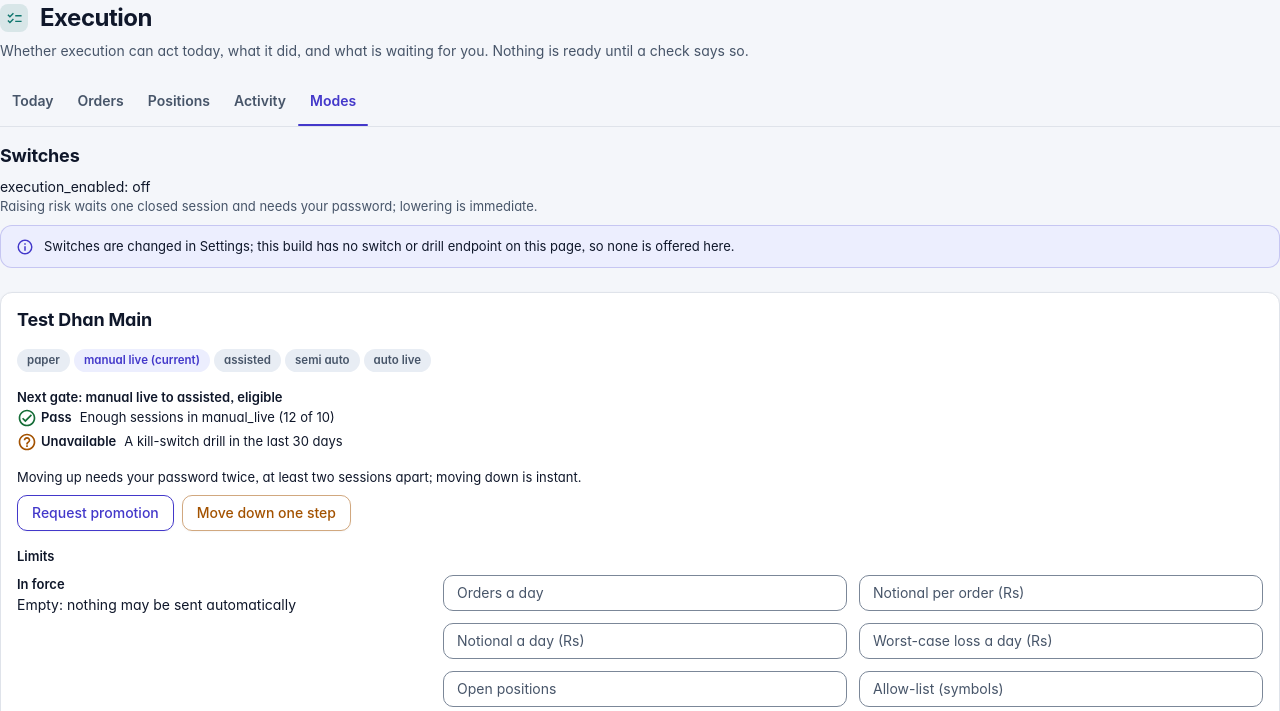
Scenario: Modes tab › asks the password and the reason, sends the request, and shows the server refusal as it came
Step 1. Click the button "Request promotion" → (95, 513), box [17,495,174,531]
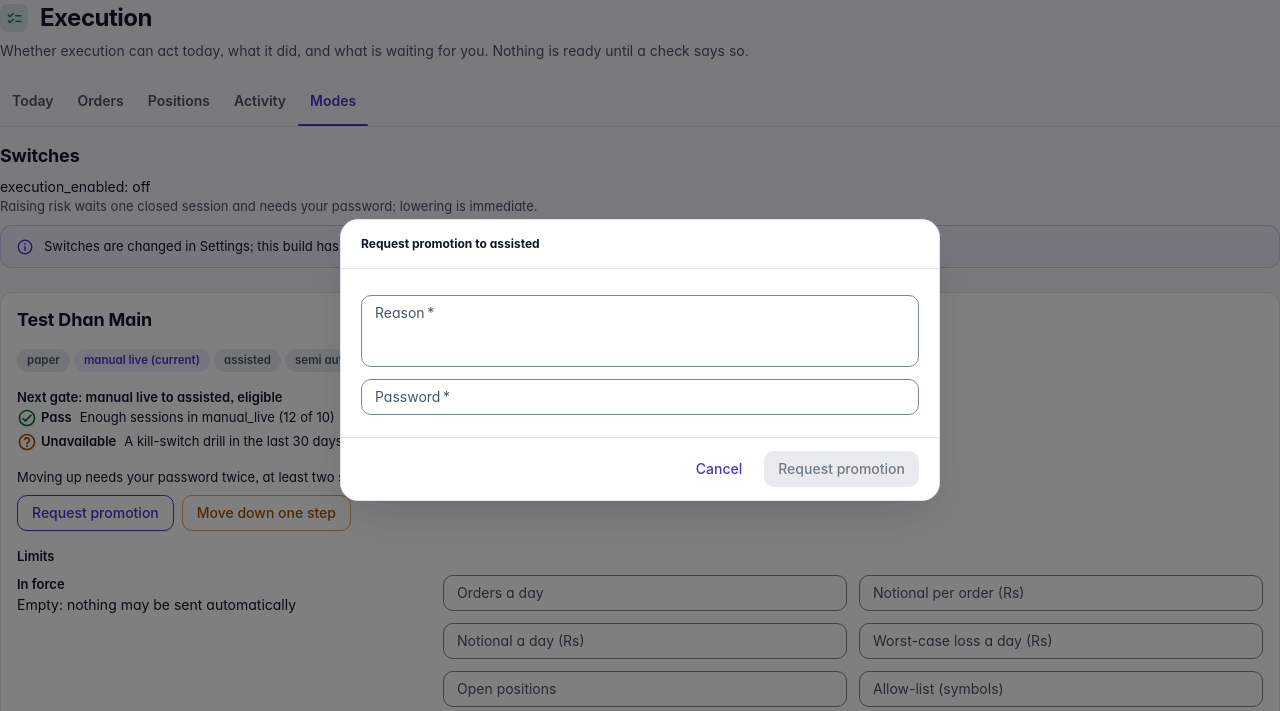
Step 2. Type "ready" into the text box labelled "Reason *" → (640, 331), box [375,303,905,359]
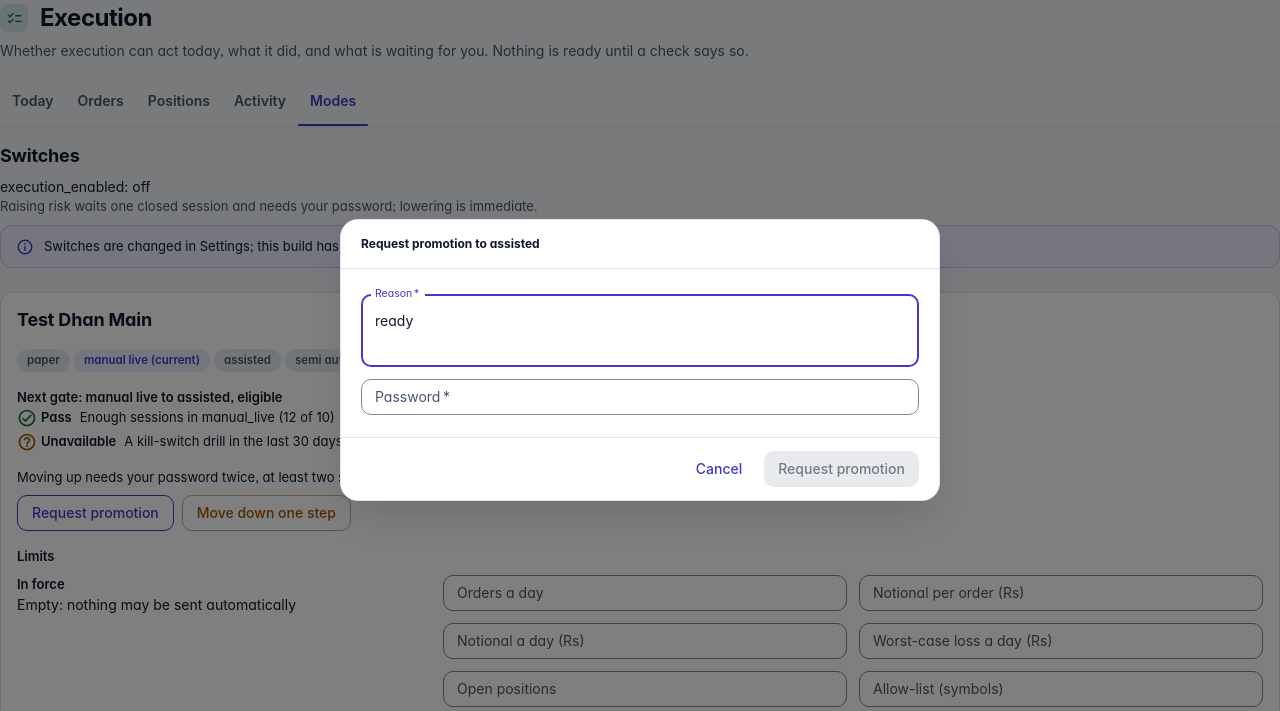
Step 3. Type "pw" into the password field labelled "Password *" → (640, 397), box [361,379,919,415]
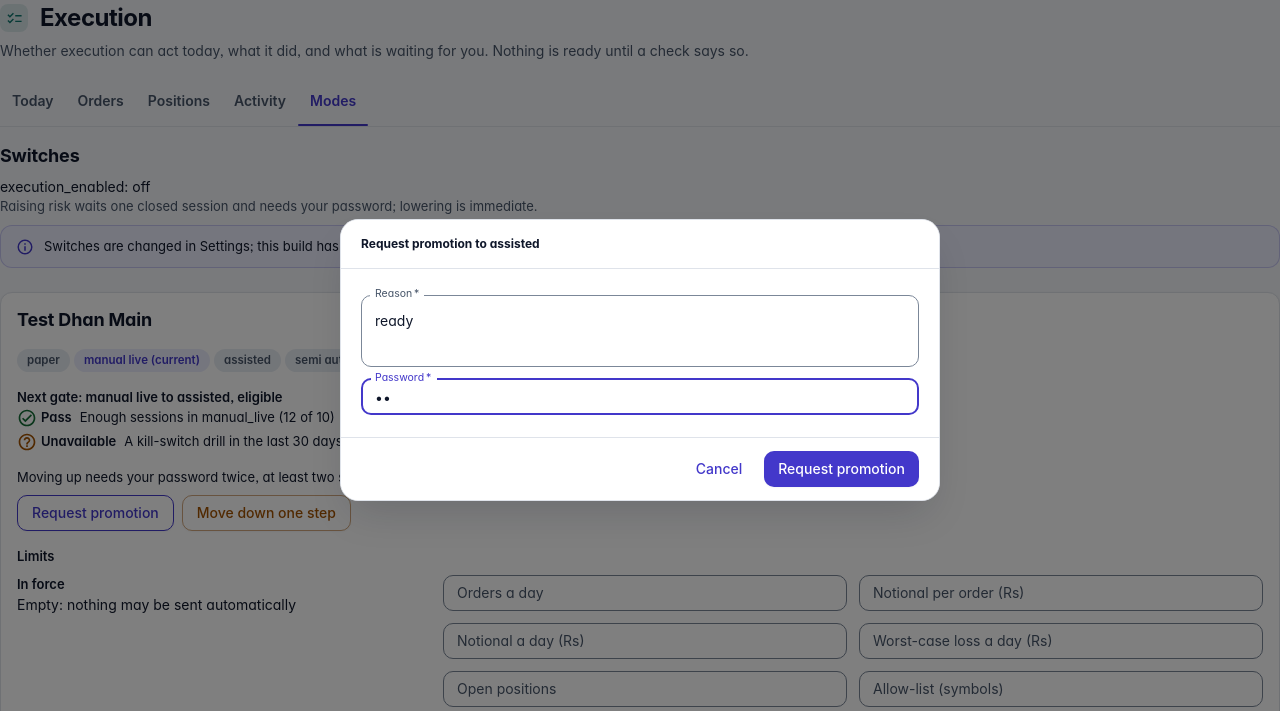
Step 4. Click the button "Request promotion" → (842, 469), box [764,451,919,487]
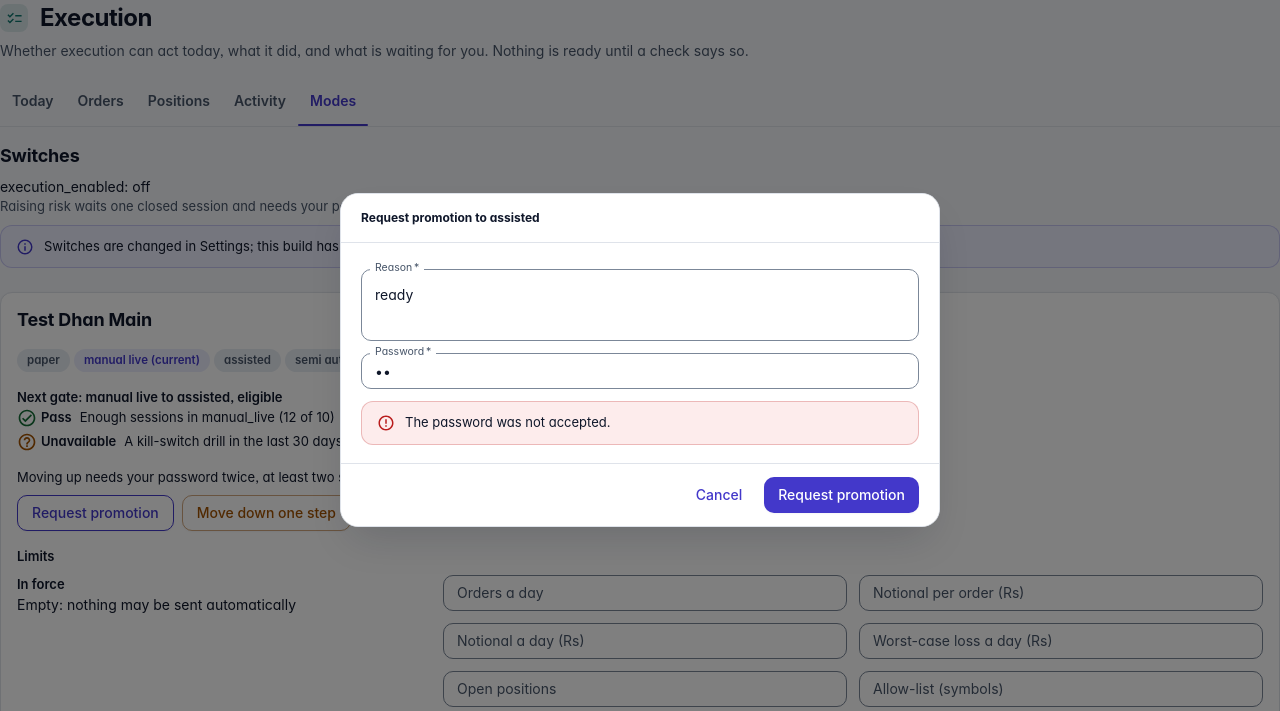
expect the text "The password was not accepted." is shown: met, box [405,413,610,433]
